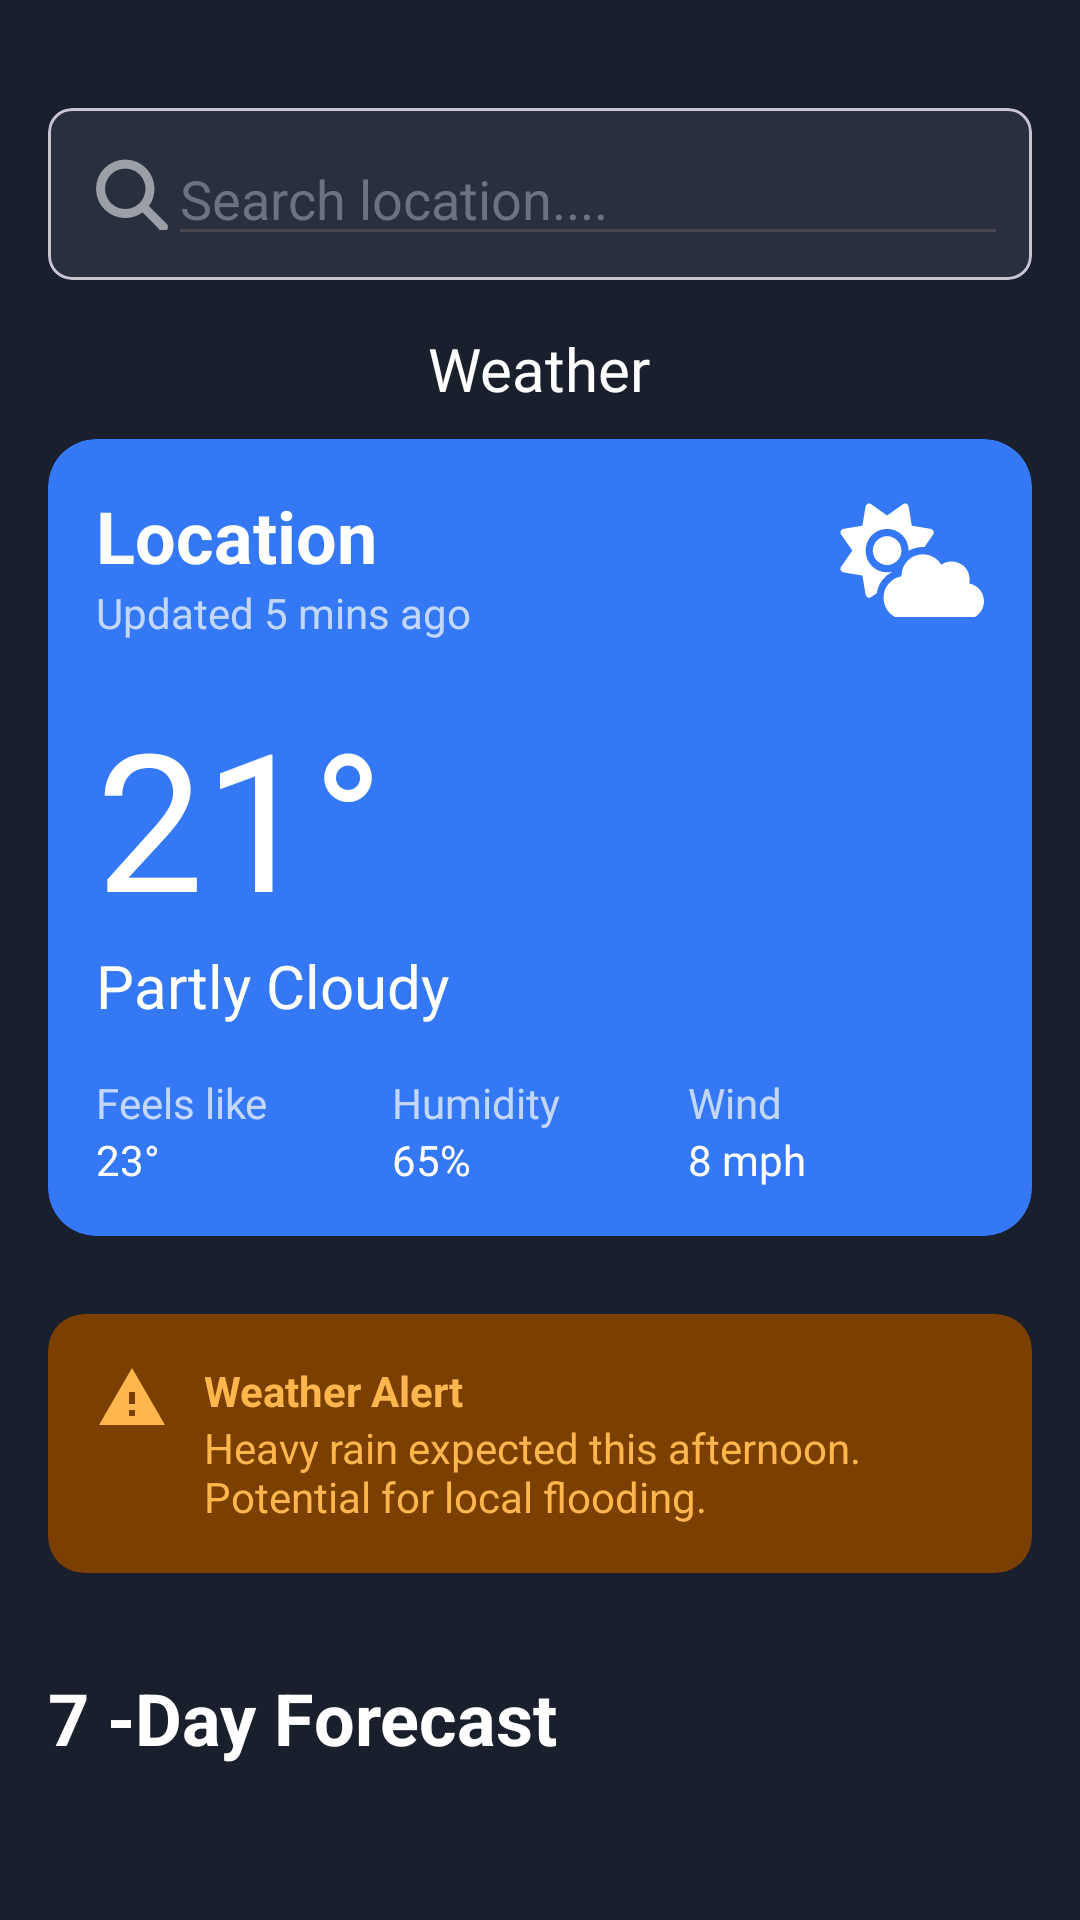

Screen size 1080px×1920px. Icon name, then its center in pixels as (x=x, y=y):
partly cloudy: (x=912, y=560)
warning: (x=132, y=1396)
